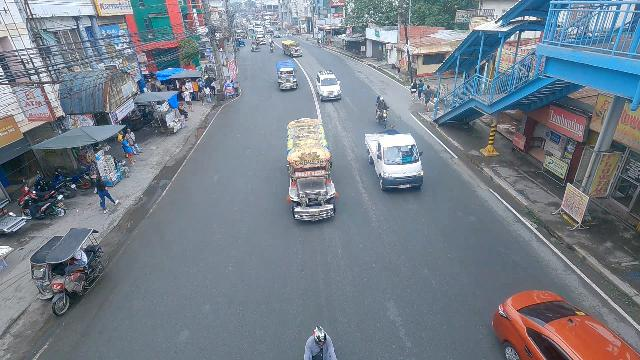car: (316, 69, 342, 100), (273, 31, 280, 38)
jeepney: (287, 117, 337, 221), (276, 60, 298, 90), (282, 40, 303, 57), (251, 34, 266, 45), (235, 30, 247, 39)
motorcycle: (376, 96, 389, 127), (269, 43, 274, 52), (271, 40, 275, 49), (269, 38, 272, 45), (270, 29, 273, 36)
truck: (365, 133, 424, 190)
